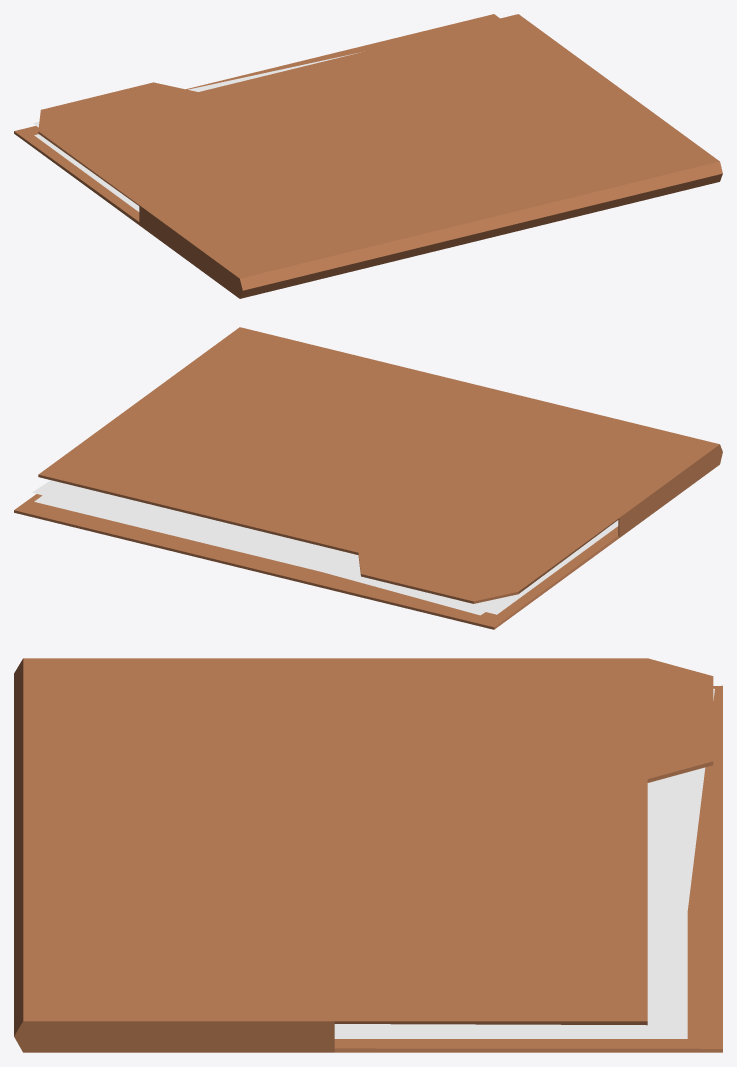
3 views of the same model, one above another, from view 1: azimuth 30°, elevation 25°; view 2: azimuth 150°, elevation 25°; view 3: azimuth 270°, elevation 25° (orthographic). The views are drawn at different scales.
Visible parts, largest first — view 1: Mesh_File_01; view 2: Mesh_File_01; view 3: Mesh_File_01.
Part boxes in pixels (left/top/right/bottom): Mesh_File_01: left=14, top=14, right=722, bottom=298; Mesh_File_01: left=14, top=327, right=722, bottom=629; Mesh_File_01: left=14, top=658, right=722, bottom=1052.
Size of the model in its own units: 0.3379 by 0.0137 by 0.2789.
Materials: 1 (1 with a texture image).
